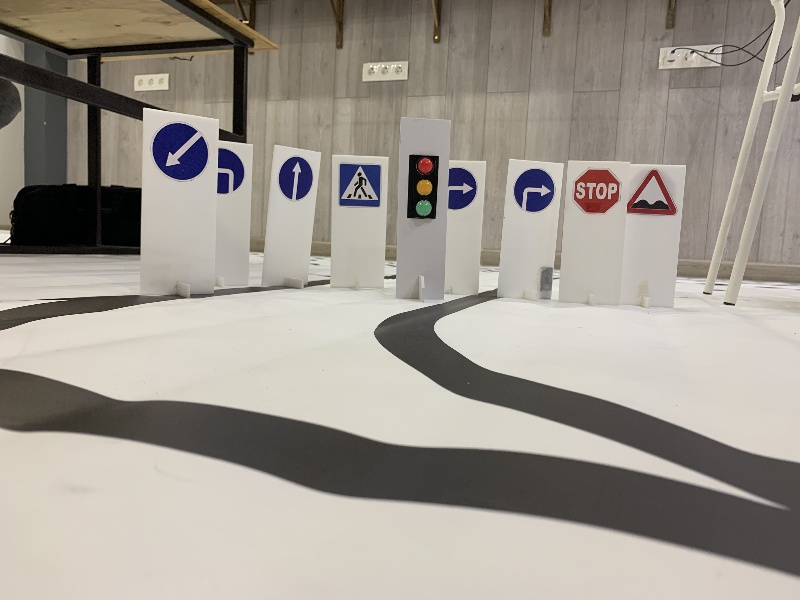Nerov: (626, 166, 679, 222)
Right: (512, 166, 555, 214), (442, 163, 477, 213)
Stop: (573, 168, 621, 213)
forw: (279, 154, 314, 202)
pesh: (338, 163, 379, 209)
prep: (151, 122, 208, 183)
